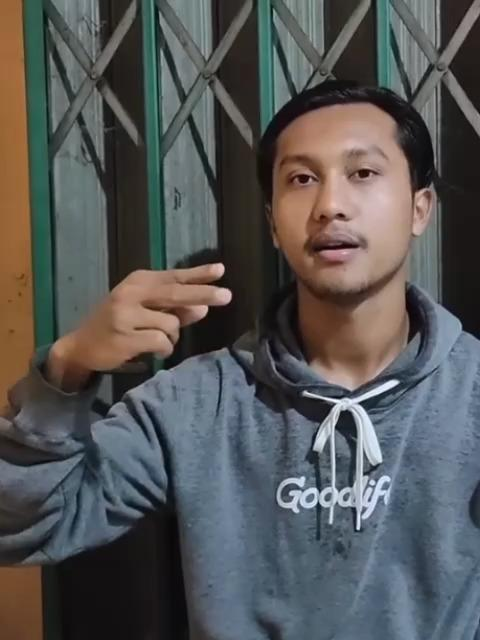H: (68, 263, 236, 373)
